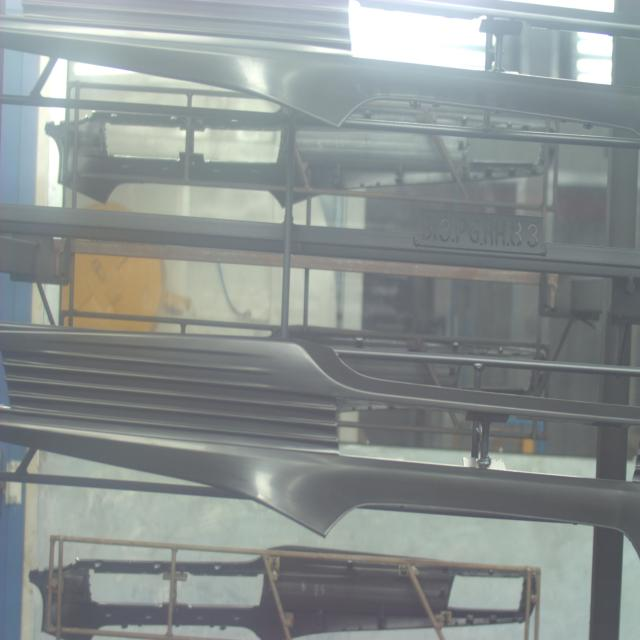Non_primered: (0, 323, 640, 577), (0, 0, 639, 130)
